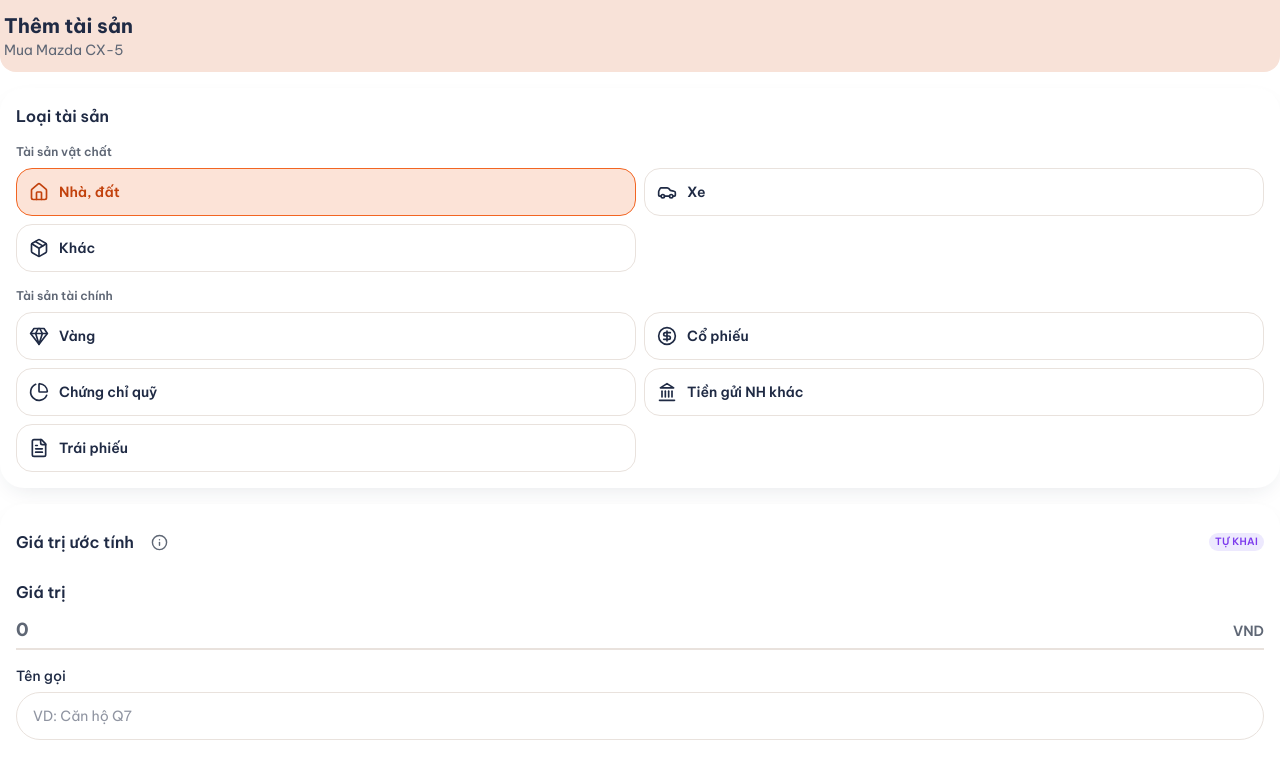
it: Asset quantity input — parseQtyInput, formatQtyInput and AddAsset screen › AddAsset component quantity field › fractional unit (gold) handles '1,' and caps decimals at 2
// Select Vàng (gold, fractional: true)
Click the button "Vàng" at point(77, 336), box [16,312,636,360]
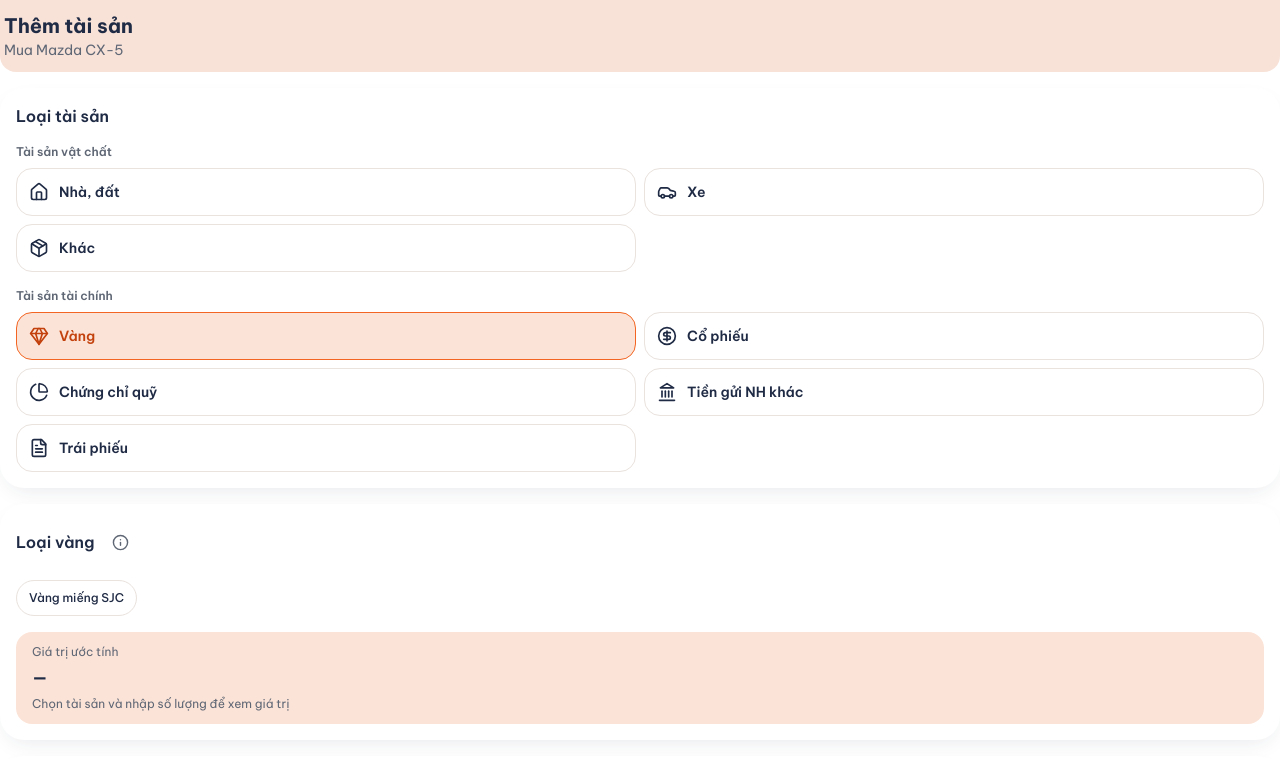
// Select Vàng miếng SJC chip
Click the button "Vàng miếng SJC" at point(76, 598), box [16,580,137,616]
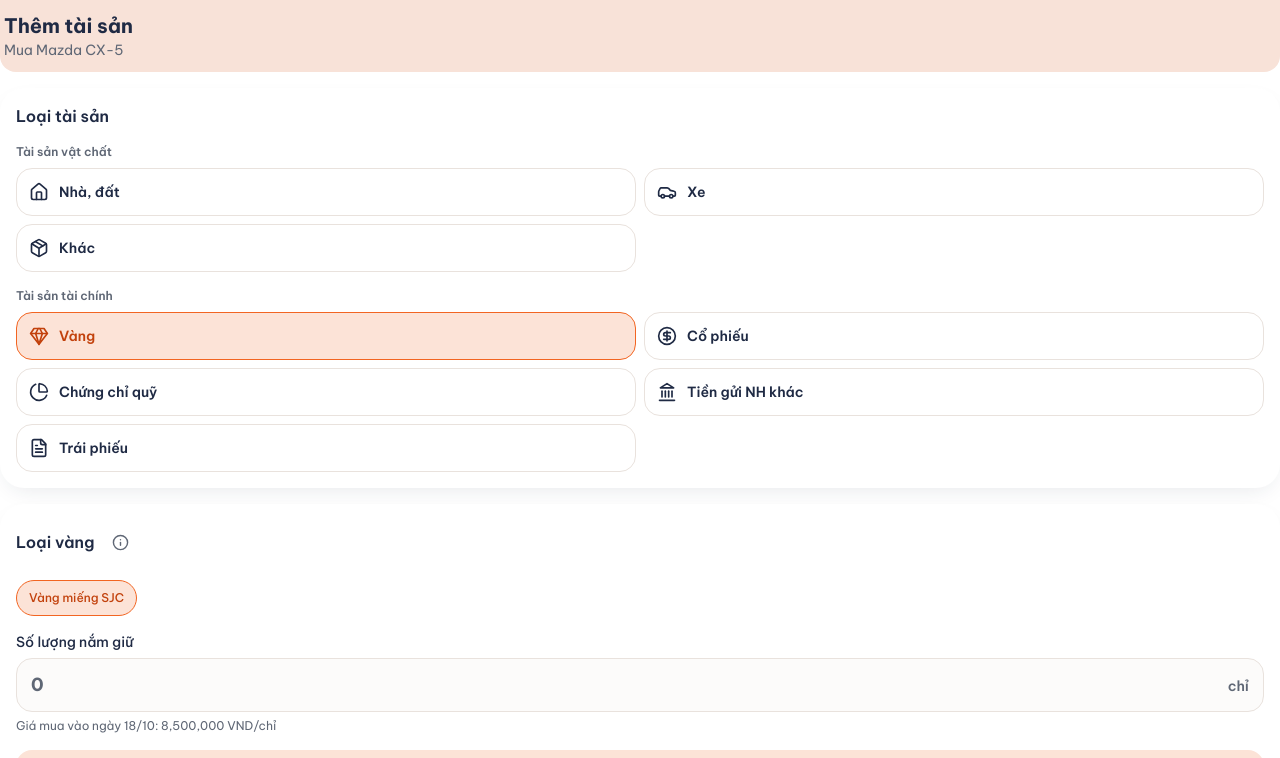
Type "1," into the field labelled "Số lượng nắm giữ" at point(625, 685), box [31,671,1220,699]
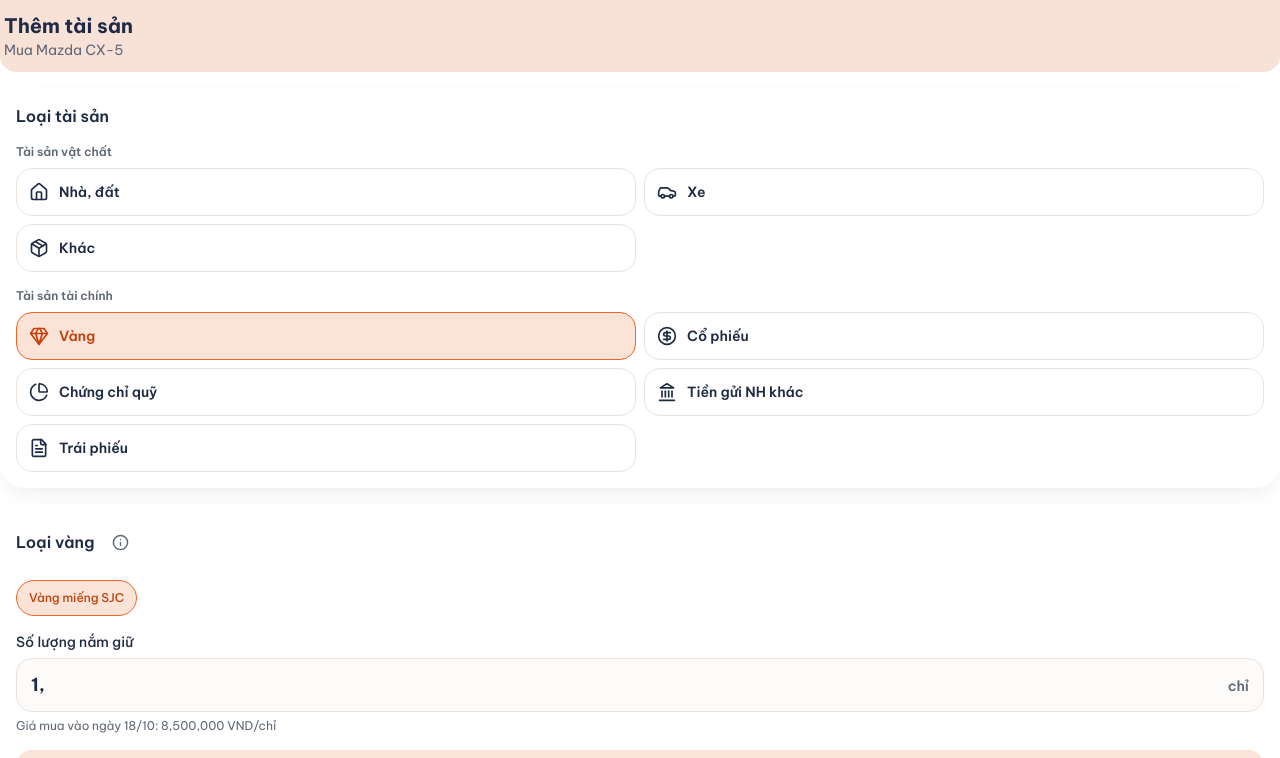
Replace the text in the field labelled "Số lượng nắm giữ" with "1,5" at point(625, 685), box [31,671,1220,699]
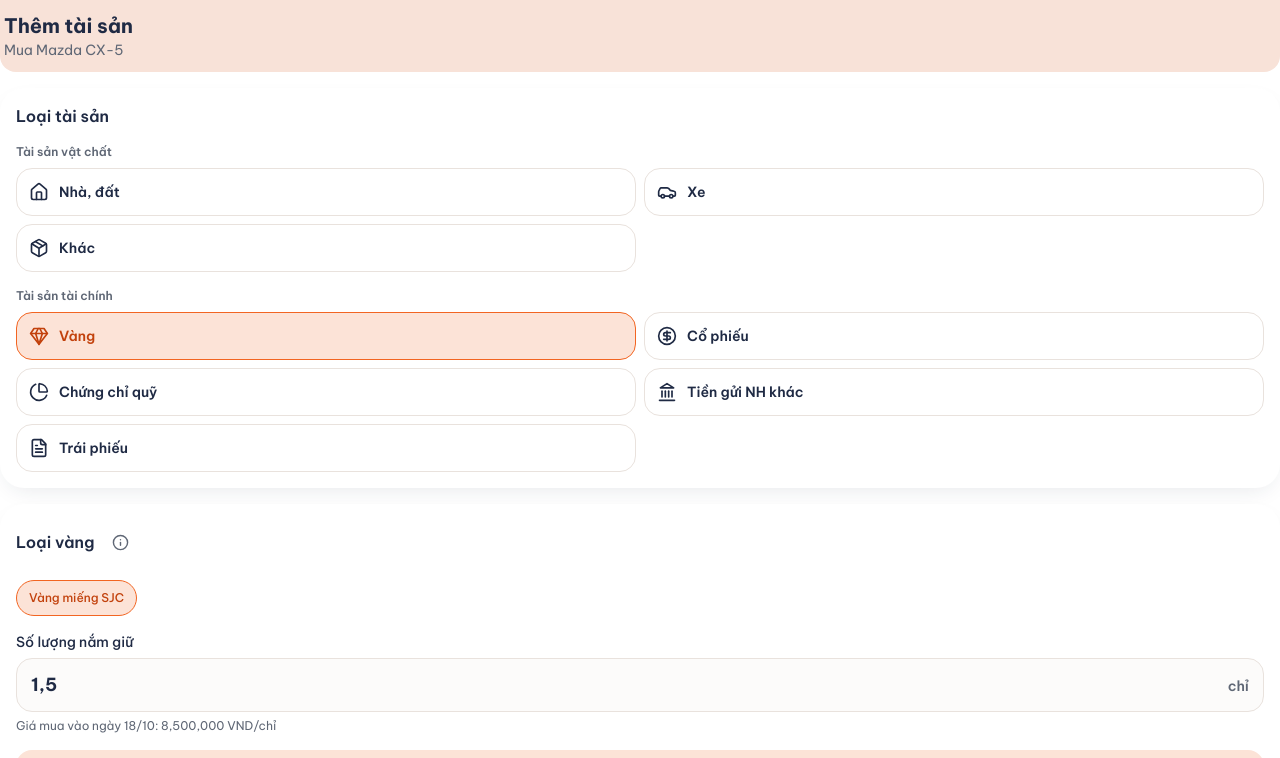
Replace the text in the field labelled "Số lượng nắm giữ" with "1,567" at point(625, 685), box [31,671,1220,699]
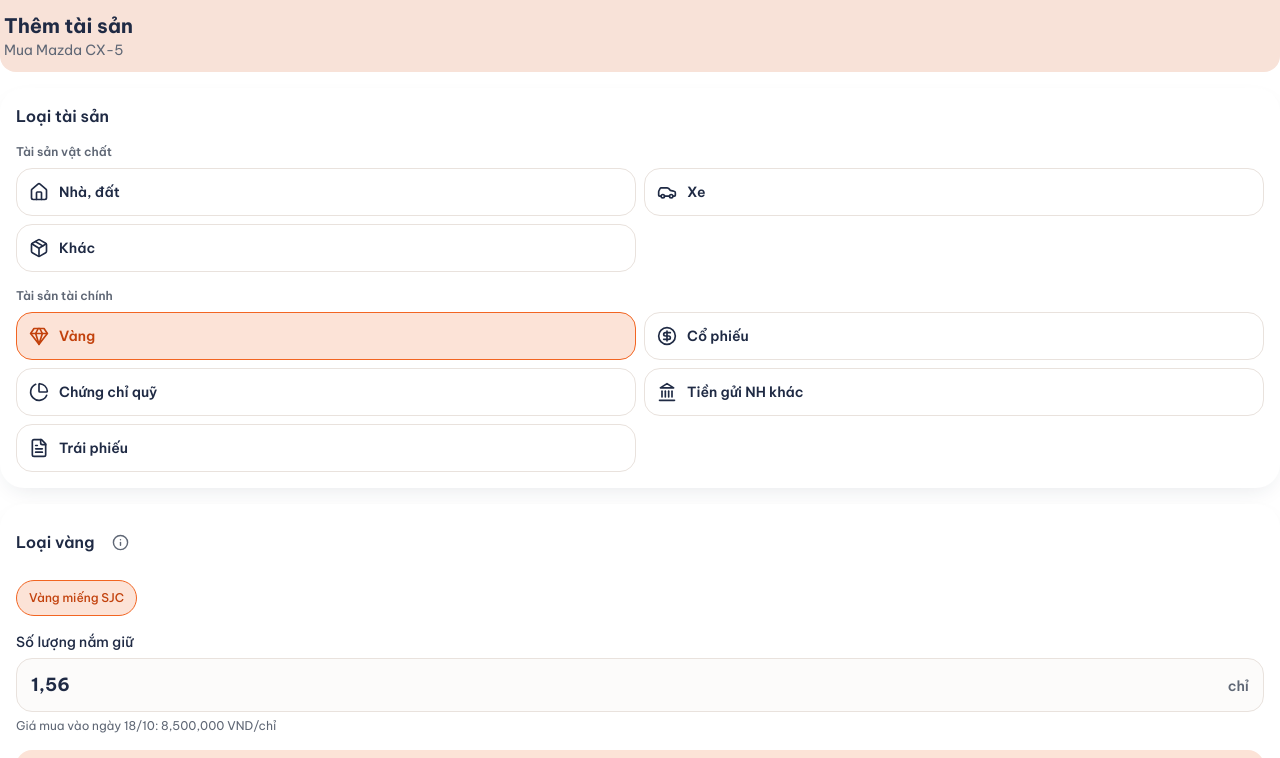
Result: the field labelled "Số lượng nắm giữ" holds "1,56" at [31,671,1220,699]
